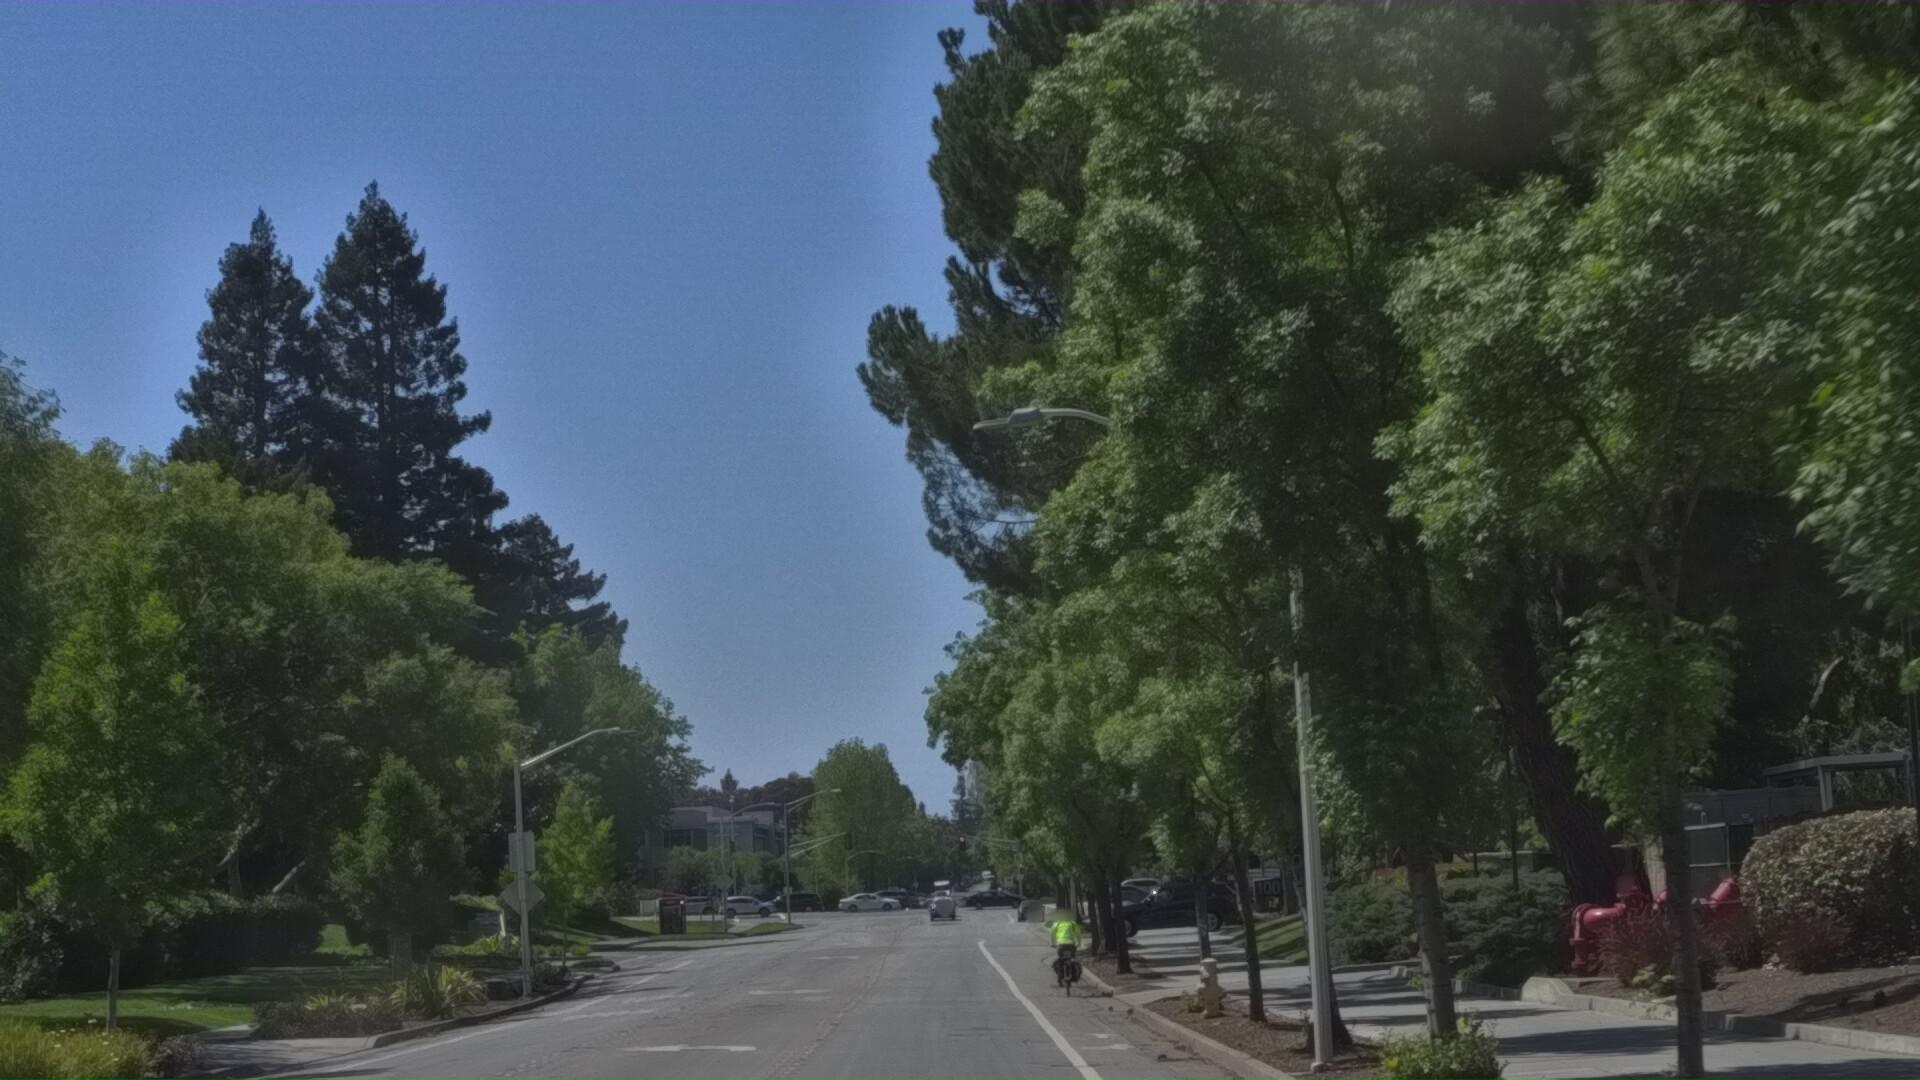bicycle: (1047, 895, 1112, 1005)
